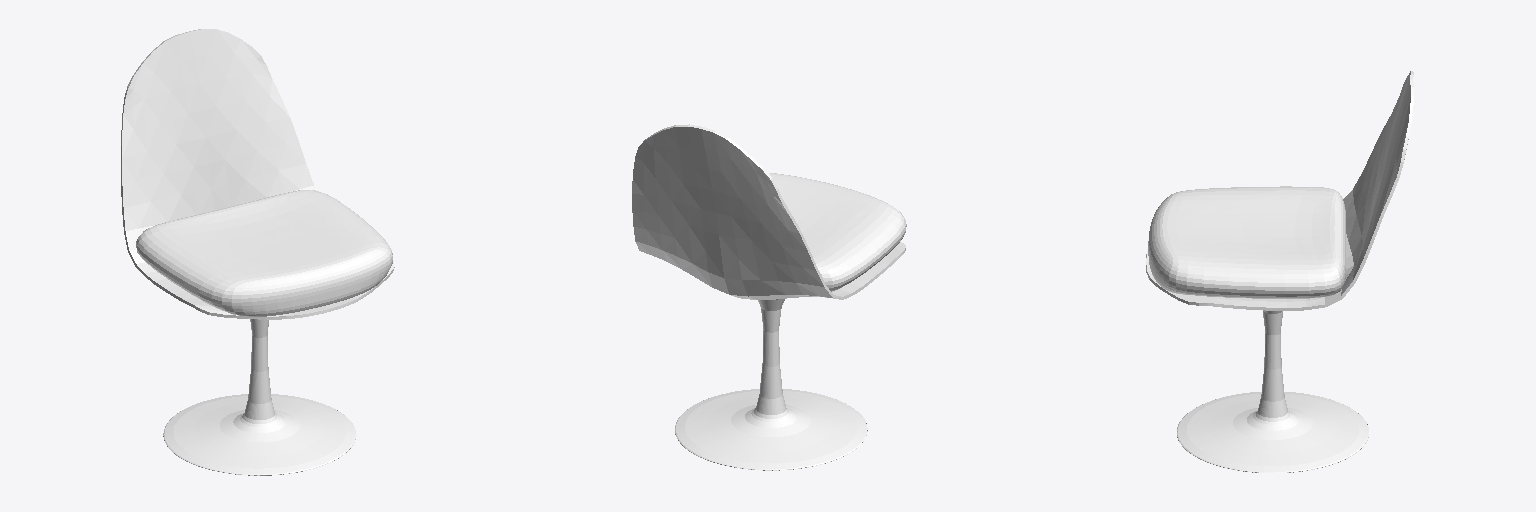
The model's file is coffee-chair.obj.
3 views of the same model, side by side, from view 1: azimuth 30°, elevation 25°; view 2: azimuth 150°, elevation 25°; view 3: azimuth 270°, elevation 25° (orthographic).
Visible parts, largest first — view 1: coffee-chair; view 2: coffee-chair; view 3: coffee-chair.
Part boxes in pixels (left/top/right/bottom): coffee-chair: left=121, top=29, right=394, bottom=475; coffee-chair: left=632, top=124, right=906, bottom=470; coffee-chair: left=1146, top=71, right=1413, bottom=472.
Bounding box in the file's own units: 0.7646 × 1.29 × 0.8842.